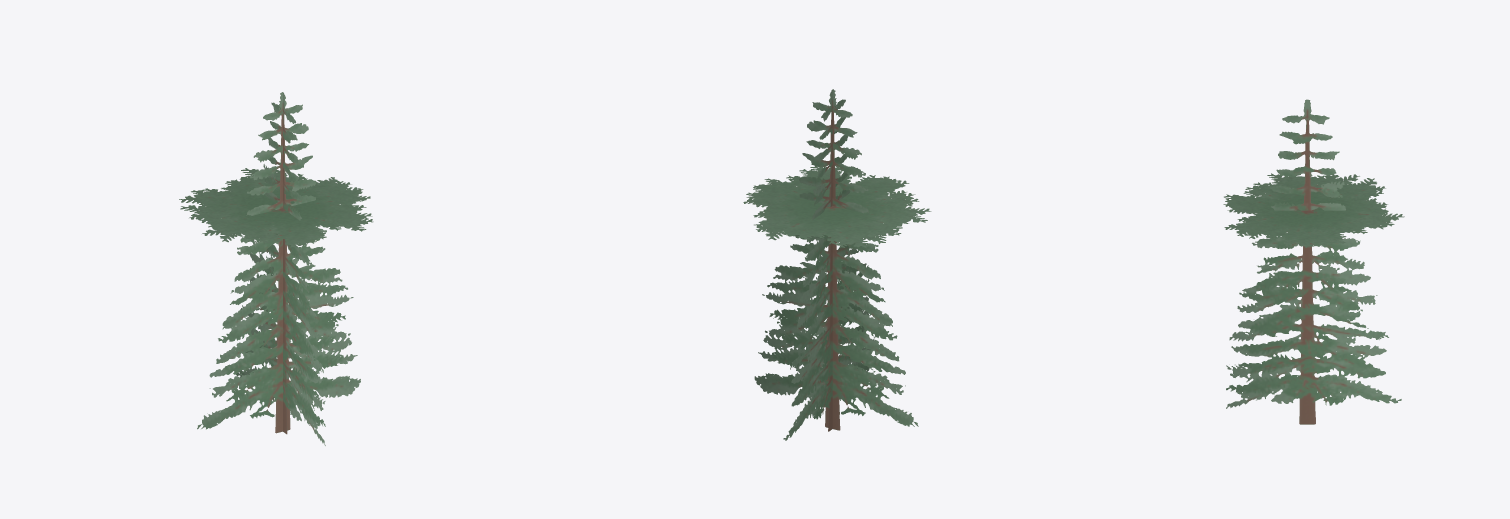
File: pine_1_far.glb
3 views of the same model, side by side, from view 1: azimuth 30°, elevation 25°; view 2: azimuth 150°, elevation 25°; view 3: azimuth 270°, elevation 25° (orthographic). The views are drawn at different scales.
Parts seen in each view (by area): view 1: pine_1_far; view 2: pine_1_far; view 3: pine_1_far.
Boxes of the visible parts, left/top/right/bottom form: pine_1_far: left=179, top=92, right=373, bottom=445; pine_1_far: left=743, top=89, right=931, bottom=440; pine_1_far: left=1223, top=99, right=1404, bottom=424.
Size of the model in its own units: 13.15 by 13.15 by 13.15.
1 material, 1 textured.
